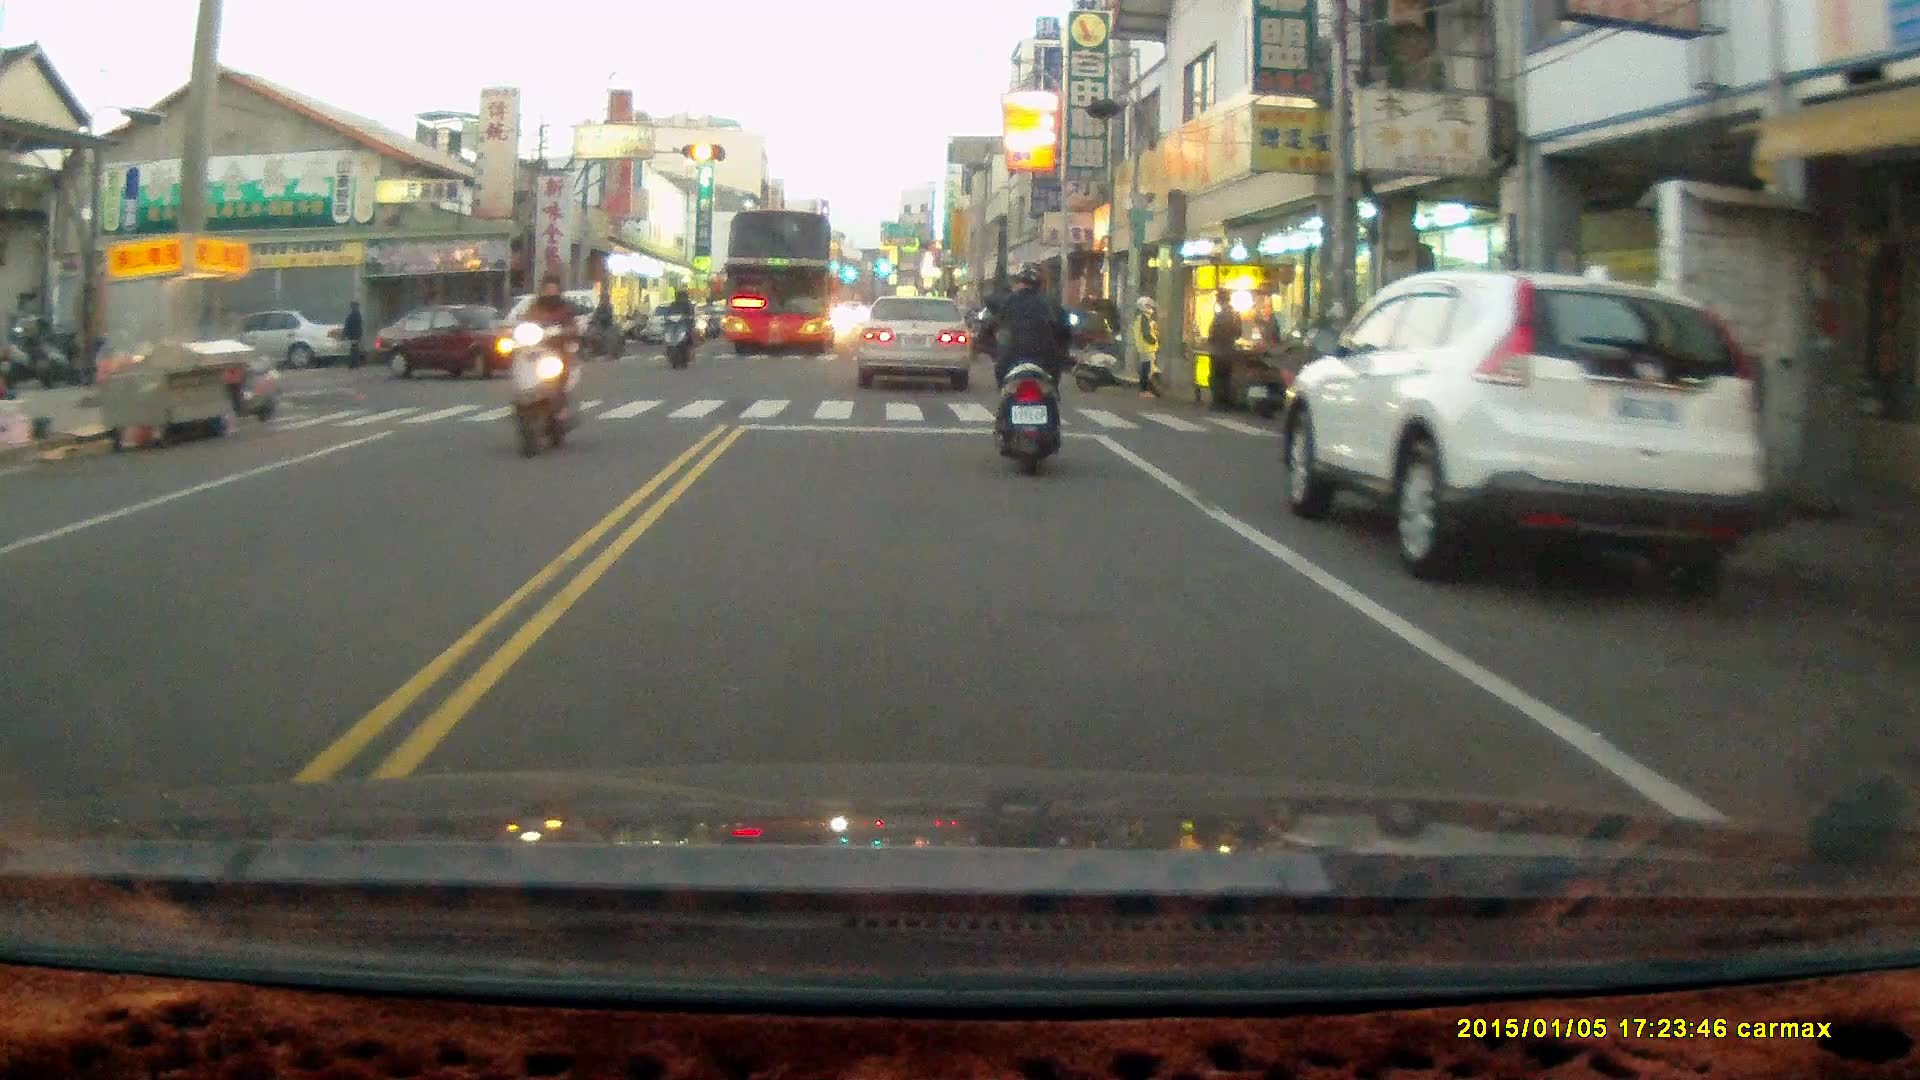pedestrian: (1208, 290, 1244, 420), (1129, 294, 1164, 402), (339, 302, 363, 372)
rider: (976, 260, 1081, 472), (492, 269, 584, 456), (572, 289, 624, 362), (656, 287, 696, 371)
vehicle: (1278, 266, 1773, 584), (714, 206, 842, 359), (380, 299, 558, 375), (857, 294, 974, 388), (223, 311, 358, 368)
